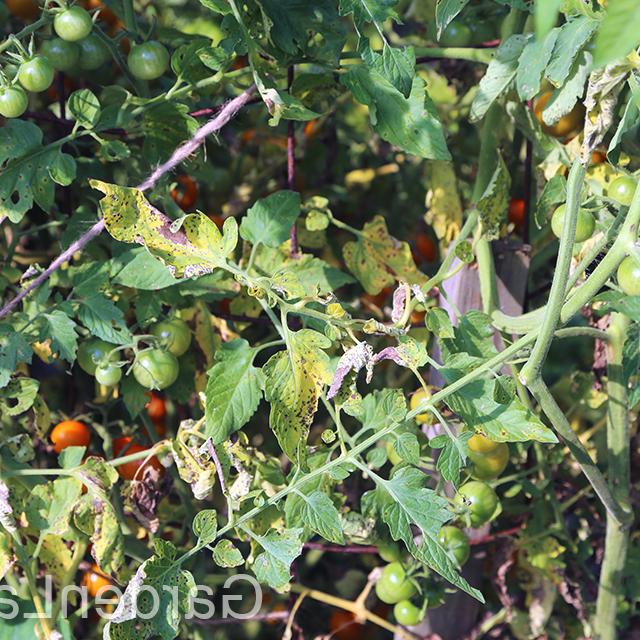Tomato Early blight leaf: (85, 178, 242, 282), (348, 63, 447, 162), (262, 330, 331, 460), (0, 124, 75, 235), (431, 386, 553, 445), (199, 341, 268, 445), (344, 222, 422, 291), (265, 254, 353, 297)
